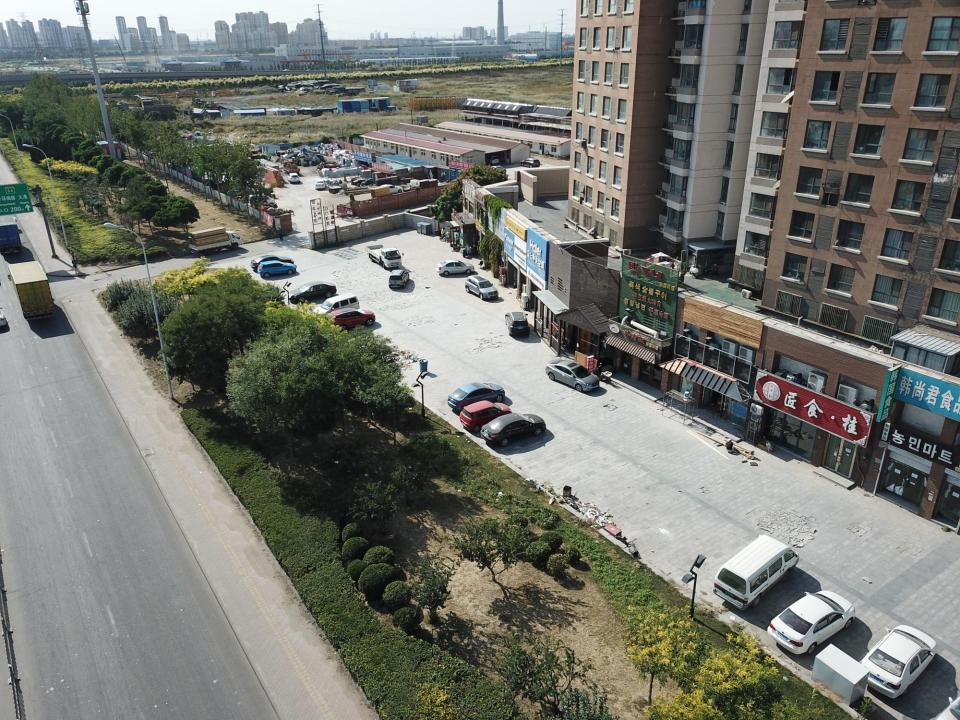car: (858, 625, 938, 699), (766, 590, 856, 655), (480, 413, 546, 446), (544, 358, 600, 393), (447, 381, 505, 411), (459, 400, 512, 432), (320, 308, 376, 333), (287, 281, 337, 303), (465, 274, 499, 301), (257, 260, 297, 278), (250, 255, 294, 271), (436, 259, 475, 277), (505, 311, 530, 337), (247, 193, 276, 208), (389, 269, 410, 289), (377, 184, 404, 195), (520, 157, 540, 168), (482, 154, 500, 165), (488, 164, 506, 175), (287, 172, 300, 184), (314, 180, 327, 190)
truck: (7, 260, 55, 321), (188, 226, 243, 255), (365, 244, 404, 270), (0, 214, 23, 255), (282, 160, 301, 174)
van: (713, 534, 799, 611), (312, 292, 360, 321)
